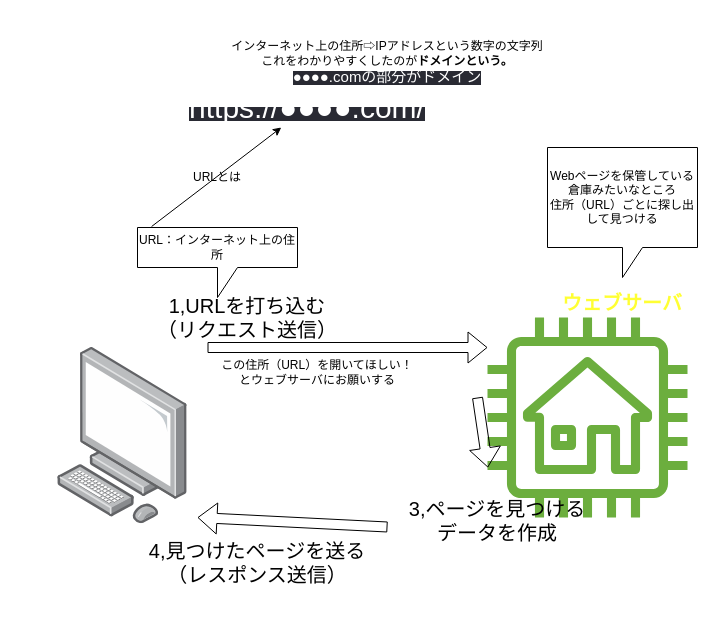
Some shapes in this 724 by 624 pixel diagram are drawn without their labels. The centre of each missing label's shape, as x and y in pixels:
2,受信する: point 587,417
自分の パソコン: point 122,435
